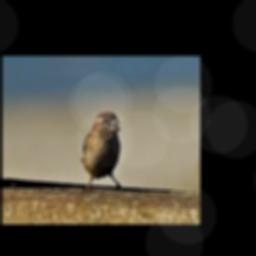Sparrow: (81, 111, 123, 190)
